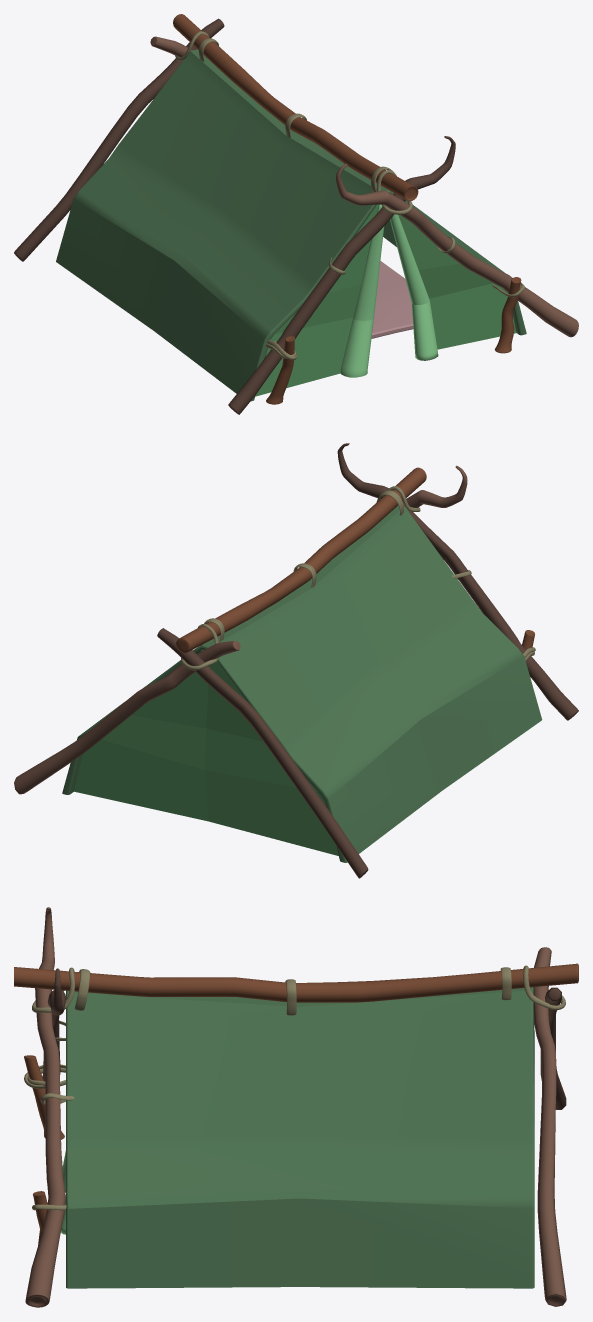
Rendered from tenda.fbx.
3 views of the same model, one above another, from view 1: azimuth 30°, elevation 25°; view 2: azimuth 150°, elevation 25°; view 3: azimuth 270°, elevation 25° (orthographic). The views are drawn at different scales.
Visible parts, largest first — view 1: Outer, Ends, L_Big_Supports, Opening, Top_support, R_Big_Supports, Camp_bed, Small_Supports, Ropes; view 2: Outer, Ends, L_Big_Supports, Top_support, R_Big_Supports, Ropes; view 3: Outer, R_Big_Supports, Top_support, Ropes, L_Big_Supports, Small_Supports.
Boxes of the visible parts, left/top/right/bottom form: Outer: left=56, top=49, right=526, bottom=401; Ends: left=255, top=204, right=516, bottom=396; L_Big_Supports: left=14, top=18, right=455, bottom=414; Opening: left=340, top=204, right=438, bottom=377; Top_support: left=173, top=14, right=418, bottom=201; R_Big_Supports: left=150, top=36, right=578, bottom=337; Camp_bed: left=371, top=261, right=413, bottom=338; Small_Supports: left=266, top=277, right=521, bottom=404; Ropes: left=175, top=31, right=524, bottom=360; Outer: left=62, top=505, right=542, bottom=862; Ends: left=74, top=650, right=338, bottom=855; L_Big_Supports: left=157, top=443, right=578, bottom=878; Top_support: left=176, top=467, right=426, bottom=652; R_Big_Supports: left=14, top=465, right=467, bottom=794; Ropes: left=181, top=486, right=535, bottom=670; Outer: left=66, top=987, right=534, bottom=1288; R_Big_Supports: left=25, top=907, right=566, bottom=1307; Top_support: left=14, top=963, right=578, bottom=1002; Ropes: left=24, top=965, right=565, bottom=1210; L_Big_Supports: left=42, top=968, right=566, bottom=1109; Small_Supports: left=24, top=1055, right=64, bottom=1245.
Bounding box in the file's own units: 485 × 297 × 562.
